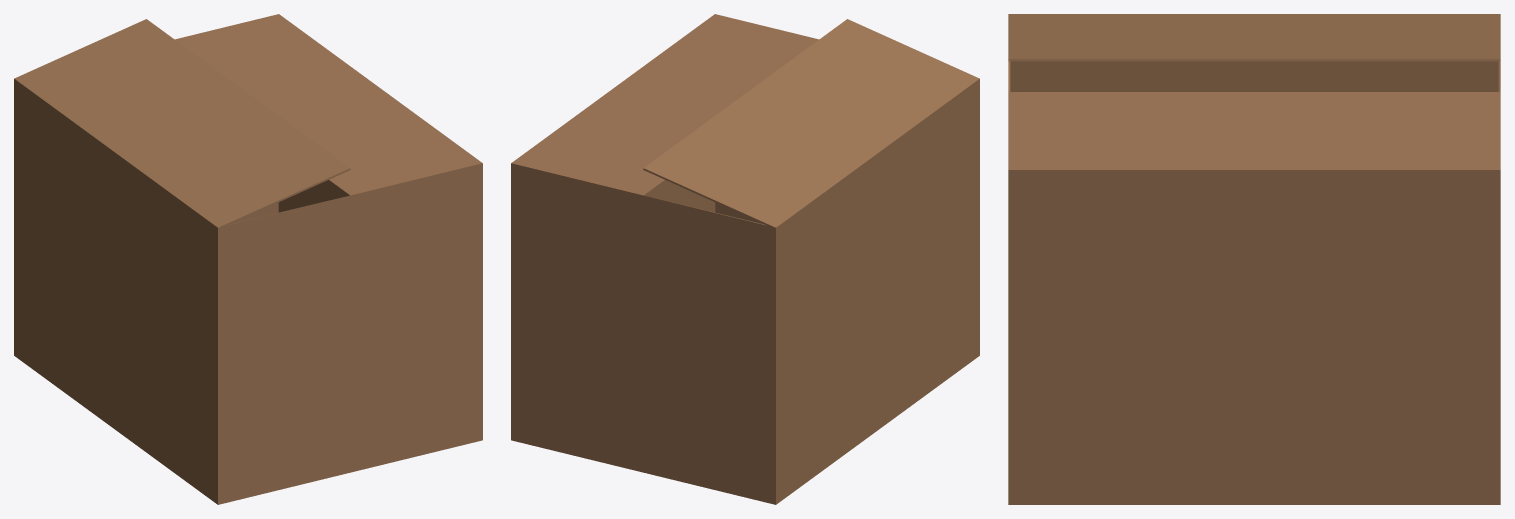
The model's file is caja-mudanza-material.fbx.
3 renders of one model, left to right at view 1: azimuth 30°, elevation 25°; view 2: azimuth 150°, elevation 25°; view 3: azimuth 270°, elevation 25°, orthographic. The views are drawn at different scales.
Visible parts, largest first — view 1: CajaMudanza; view 2: CajaMudanza; view 3: CajaMudanza.
Part boxes in pixels (bbox=[...]): CajaMudanza: bbox=[14, 14, 482, 504]; CajaMudanza: bbox=[511, 14, 979, 504]; CajaMudanza: bbox=[1008, 14, 1500, 504].
Size of the model in its own units: 38.48 by 42.27 by 51.3.
